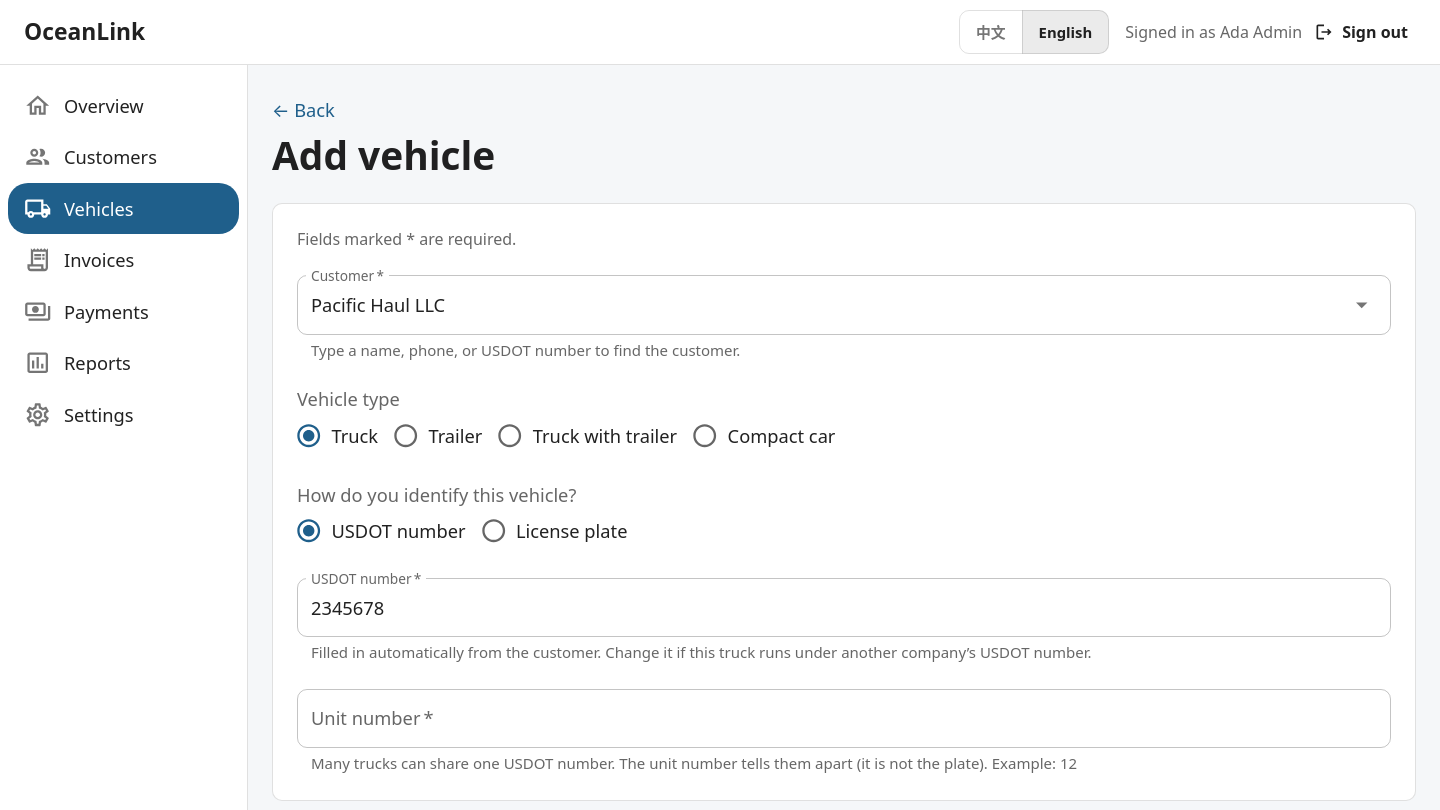
Test: vehicle form: collapsed section › opens the section when switching method leaves a value in it
Expected: the heading "Add vehicle" is shown, x1=272 y1=131 x2=495 y2=179
# The customer's USDOT number was filled in, so it must stay visible after switching.
Step 1. Click the radio button labelled "License plate" → coordinates (549, 531), box x1=470 y1=508 x2=628 y2=554
(page scrolled)
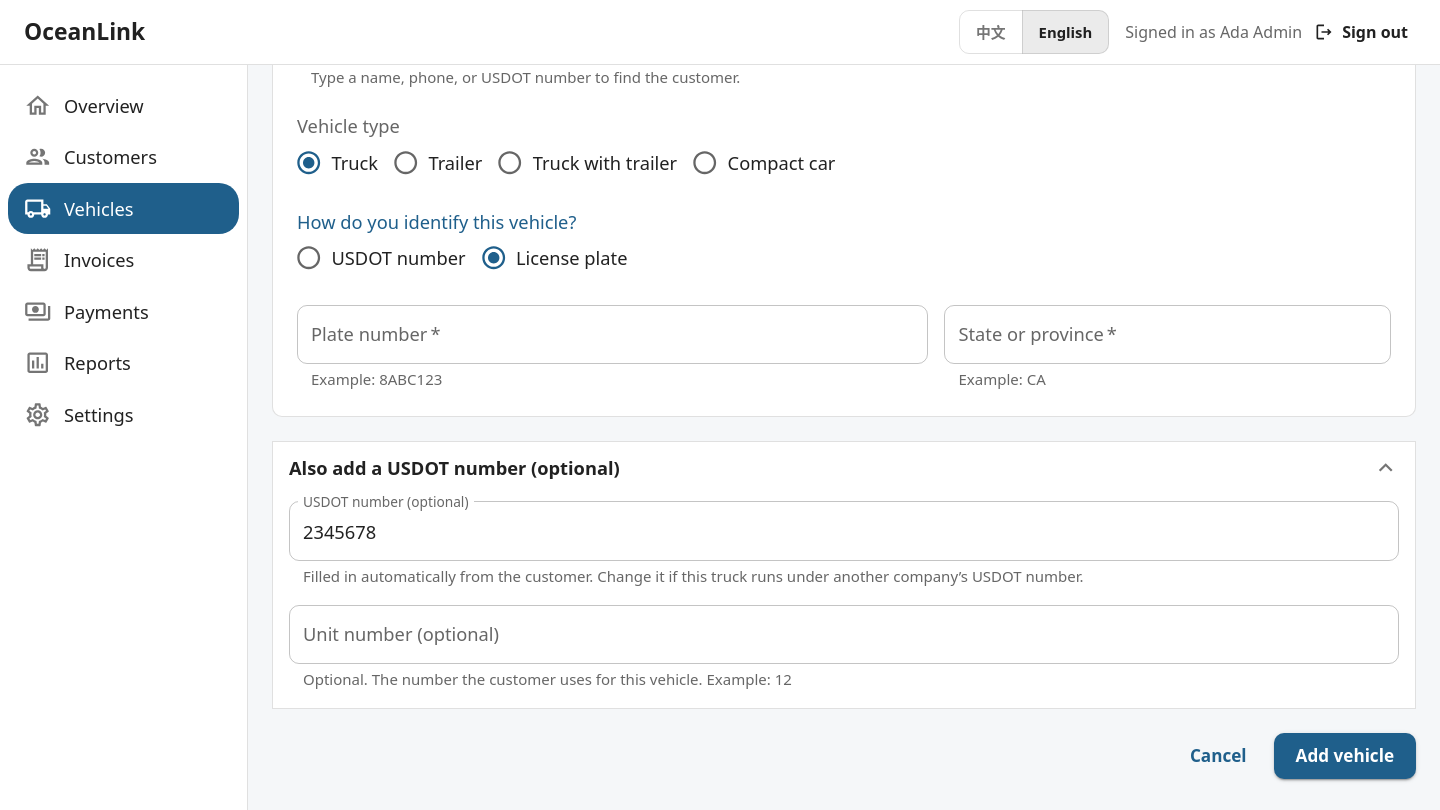
Expected: the button "Also add a USDOT number (optional)" is expanded, x1=273 y1=442 x2=1415 y2=493
Expected: the field labelled "USDOT number (optional)" holds "2345678", x1=289 y1=502 x2=1399 y2=561
